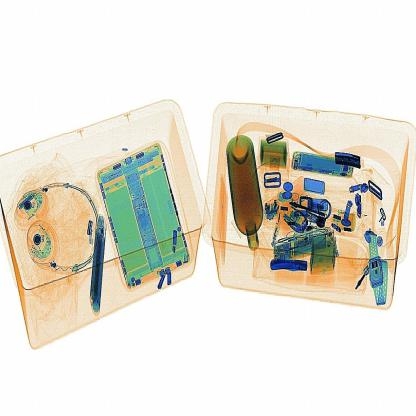knife: (268, 256, 315, 280)
